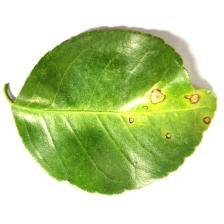canker: (95, 53, 219, 147)
